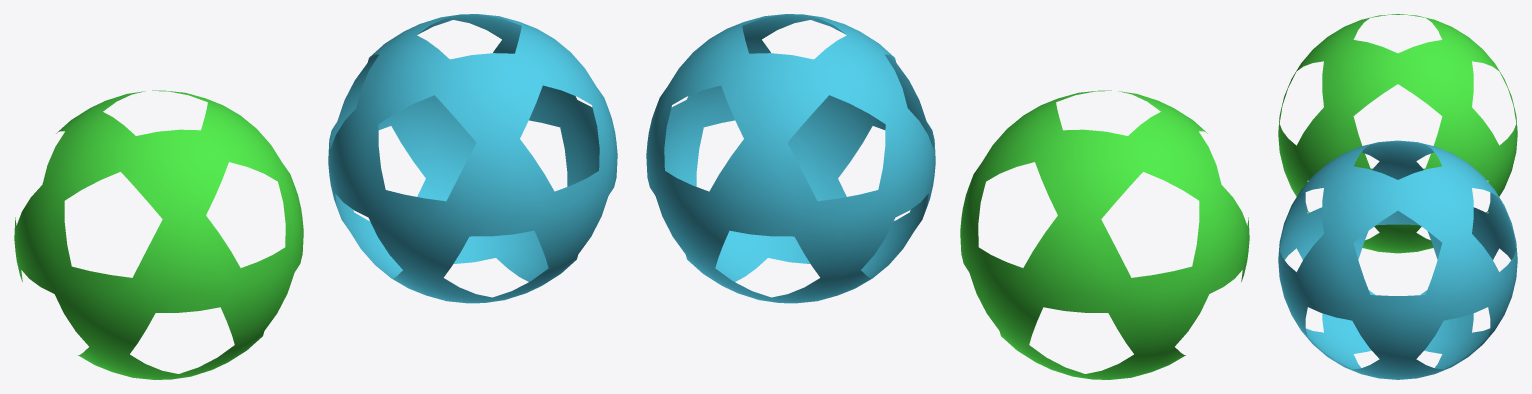
Rendered from 01_single_vs_double_sided.gltf.
3 renders of one model, left to right at view 1: azimuth 30°, elevation 25°; view 2: azimuth 150°, elevation 25°; view 3: azimuth 270°, elevation 25°, orthographic. The views are drawn at different scales.
Parts seen in each view (by area): view 1: node_double, node_single; view 2: node_double, node_single; view 3: node_double, node_single.
Boxes of the visible parts, x1=… form: node_double: x1=328, y1=14, x2=617, y2=303; node_single: x1=14, y1=90, x2=303, y2=379; node_double: x1=646, y1=14, x2=935, y2=303; node_single: x1=960, y1=90, x2=1249, y2=379; node_double: x1=1278, y1=140, x2=1517, y2=379; node_single: x1=1278, y1=14, x2=1517, y2=253.
Bounding box in the file's own units: 4.5 × 1.89 × 2.
